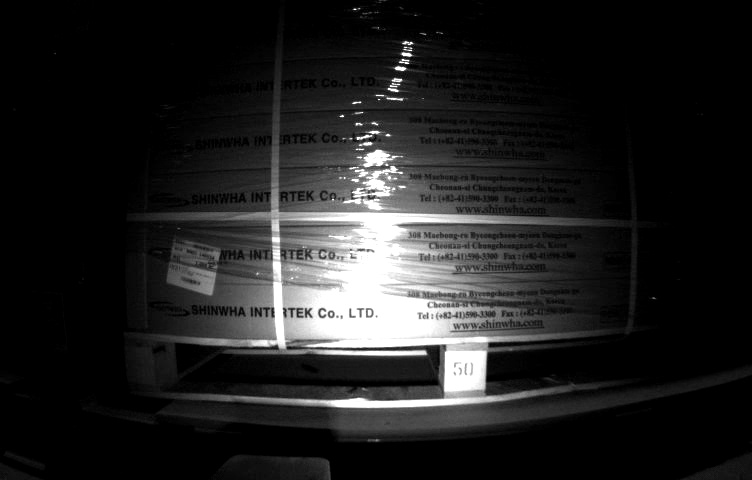True Barcode: (165, 235, 220, 297)
